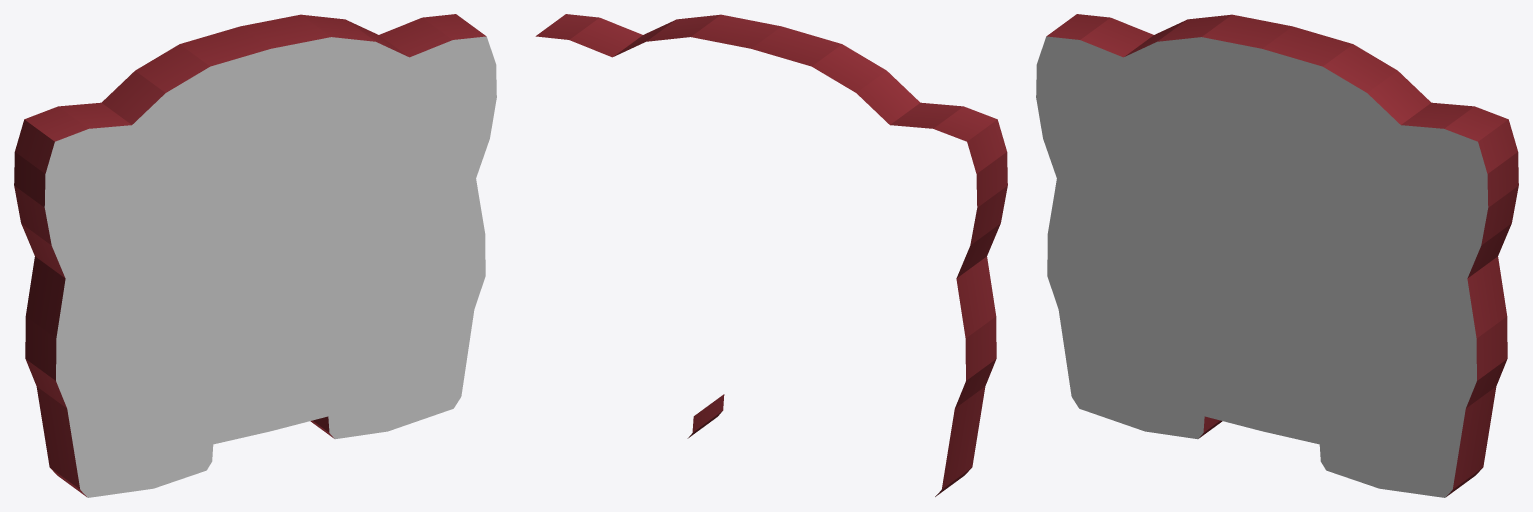
The model's file is LightningMcQueenEmoji.glb.
3 renders of one model, left to right at view 1: azimuth 30°, elevation 25°; view 2: azimuth 150°, elevation 25°; view 3: azimuth 330°, elevation 25°, orthographic.
Parts seen in each view (by area): view 1: LightningMcQueenEmoji; view 2: LightningMcQueenEmoji; view 3: LightningMcQueenEmoji.
Part boxes in pixels (<box>): LightningMcQueenEmoji: <box>14,14,496,497</box>; LightningMcQueenEmoji: <box>535,14,1007,496</box>; LightningMcQueenEmoji: <box>1036,14,1518,497</box>.
Bounding box in the file's own units: 1.98 × 1.72 × 0.2325.
